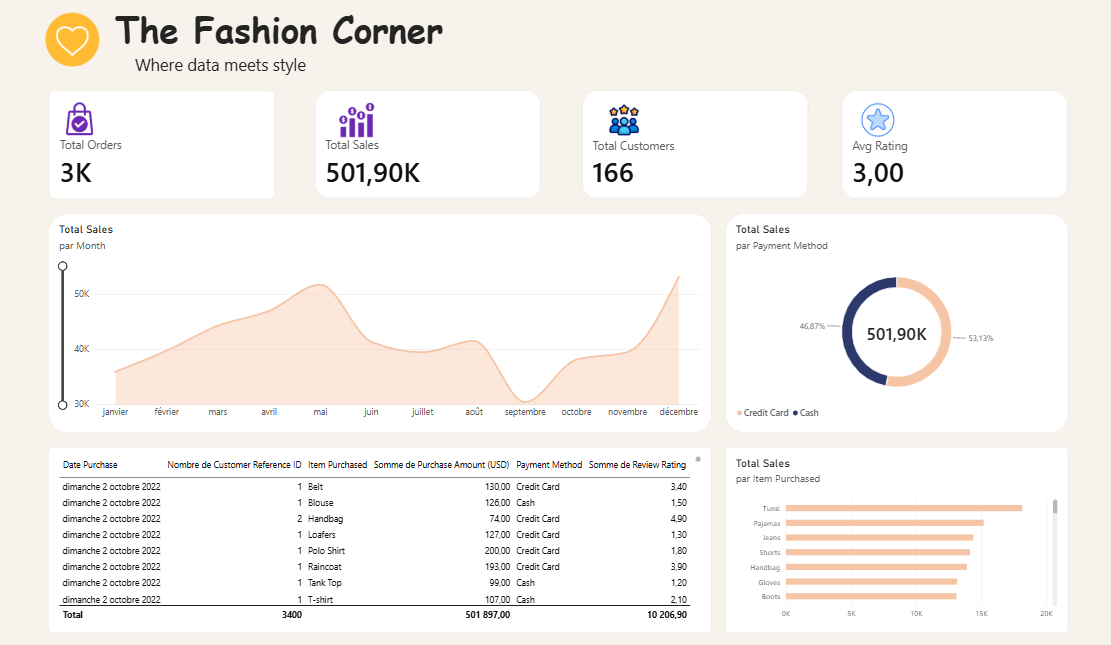

This screenshot's page, from the dashboard's own definition file:
{"tool":"powerbi","page":{"name":"Page 1","canvas":[1920,1080],"ordinal":0},"visuals":[{"type":"cardVisual","fields":{"Data":["Sales.Total Sales"]},"box":[546.7,163.3,366.7,176.7],"z":0},{"type":"cardVisual","fields":{"Data":["Sales.Total Customers"]},"box":[976.7,163.3,366.7,176.7],"z":1000},{"type":"cardVisual","fields":{"Data":["Sales.Avg Rating"]},"box":[1396.7,163.3,366.7,176.7],"z":2000},{"type":"lineChart","fields":{"Category":["DateTable.Month"],"Y":["Sales.Total Sales"]},"box":[116.7,363.3,1070,353.3],"z":3000},{"type":"donutChart","fields":{"Category":["Sales.Payment Method"],"Y":["Sales.Total Sales"]},"box":[1210,363.3,553.3,353.3],"z":4000},{"type":"tableEx","fields":{"Values":["Sales.Date Purchase","CountNonNull(Sales.Customer Reference ID)","Sales.Item Purchased","Sum(Sales.Purchase Amount (USD))","Sales.Payment Method","Sum(Sales.Review Rating)"]},"box":[116.7,740,1070,300],"z":5000},{"type":"image","box":[1343.3,183.3,223.3,56.7],"z":6000},{"type":"image","box":[913.3,183.3,266.7,56.7],"z":7000},{"type":"image","box":[546.7,183.3,136.7,56.7],"z":8000},{"type":"cardVisual","fields":{"Data":["Sales.Total Orders"]},"box":[116.7,163.3,366.7,176.7],"z":9000},{"type":"image","box":[63.3,183.3,210,53.3],"z":10000},{"type":"barChart","fields":{"Category":["Sales.Item Purchased"],"Y":["Sales.Total Sales"]},"box":[1210,740,553.3,300],"z":11000},{"type":"textbox","box":[116.7,0,1043.3,216.7],"z":11001},{"type":"textbox","box":[223.3,26.7,580,136.7],"z":11002},{"type":"image","box":[63.3,40,186.7,86.7],"z":11003},{"type":"textbox","box":[250,86.7,1076.7,76.7],"z":11004}]}

Visuals, with their boxes on the page's 1920x1080 design canvas (x1, y1, x2, y2). These are canvas units, not pixel positions in the 1111x645 screenshot, which may show the page scaled, cropped or inside an application window:
cardVisual - Sales.Total Sales: (x1=547, y1=163, x2=913, y2=340)
cardVisual - Sales.Total Customers: (x1=977, y1=163, x2=1343, y2=340)
cardVisual - Sales.Avg Rating: (x1=1397, y1=163, x2=1763, y2=340)
lineChart - DateTable.Month x Sales.Total Sales: (x1=117, y1=363, x2=1187, y2=717)
donutChart - Sales.Payment Method x Sales.Total Sales: (x1=1210, y1=363, x2=1763, y2=717)
tableEx - Sales.Date Purchase x CountNonNull(Sales.Customer Reference ID): (x1=117, y1=740, x2=1187, y2=1040)
image: (x1=1343, y1=183, x2=1567, y2=240)
image: (x1=913, y1=183, x2=1180, y2=240)
image: (x1=547, y1=183, x2=683, y2=240)
cardVisual - Sales.Total Orders: (x1=117, y1=163, x2=483, y2=340)
image: (x1=63, y1=183, x2=273, y2=237)
barChart - Sales.Item Purchased x Sales.Total Sales: (x1=1210, y1=740, x2=1763, y2=1040)
textbox: (x1=117, y1=0, x2=1160, y2=217)
textbox: (x1=223, y1=27, x2=803, y2=163)
image: (x1=63, y1=40, x2=250, y2=127)
textbox: (x1=250, y1=87, x2=1327, y2=163)
